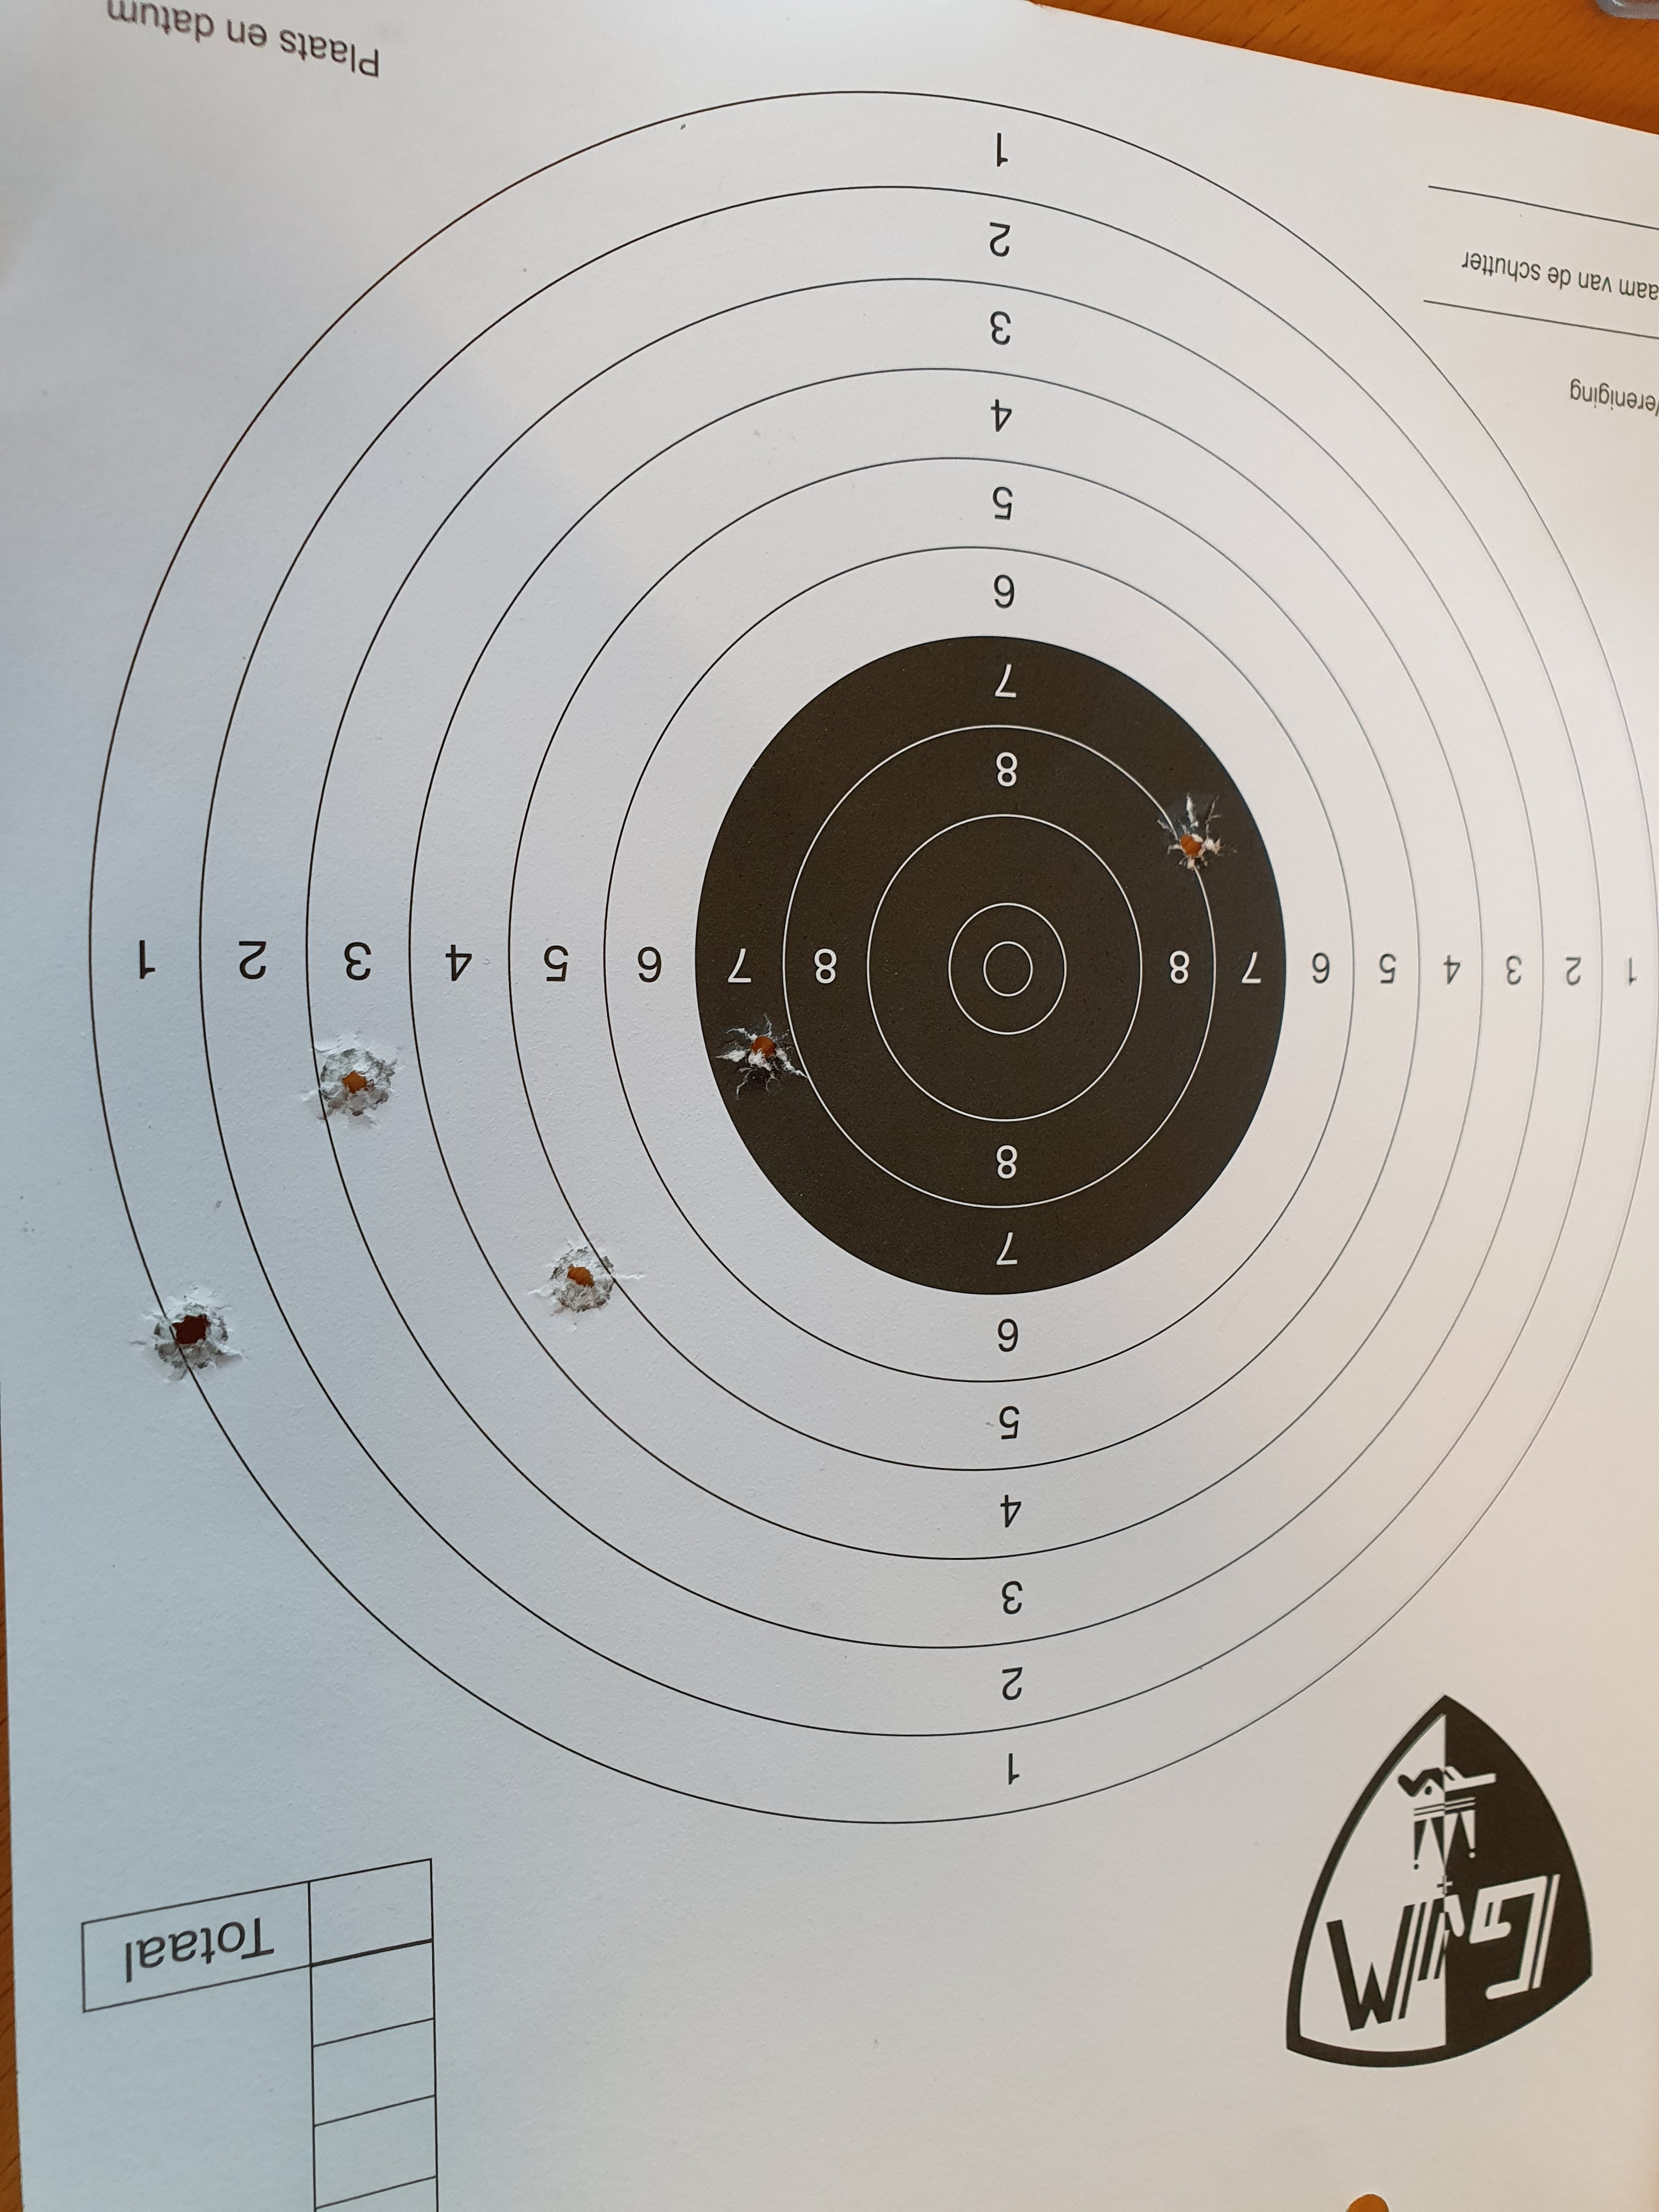center: (694, 634, 1286, 1296)
out: (85, 89, 1659, 1825)
shot: (124, 1284, 251, 1388), (521, 1231, 650, 1331), (296, 1028, 415, 1130), (711, 1008, 812, 1103), (1152, 787, 1241, 876)
target: (946, 902, 1066, 1035)
